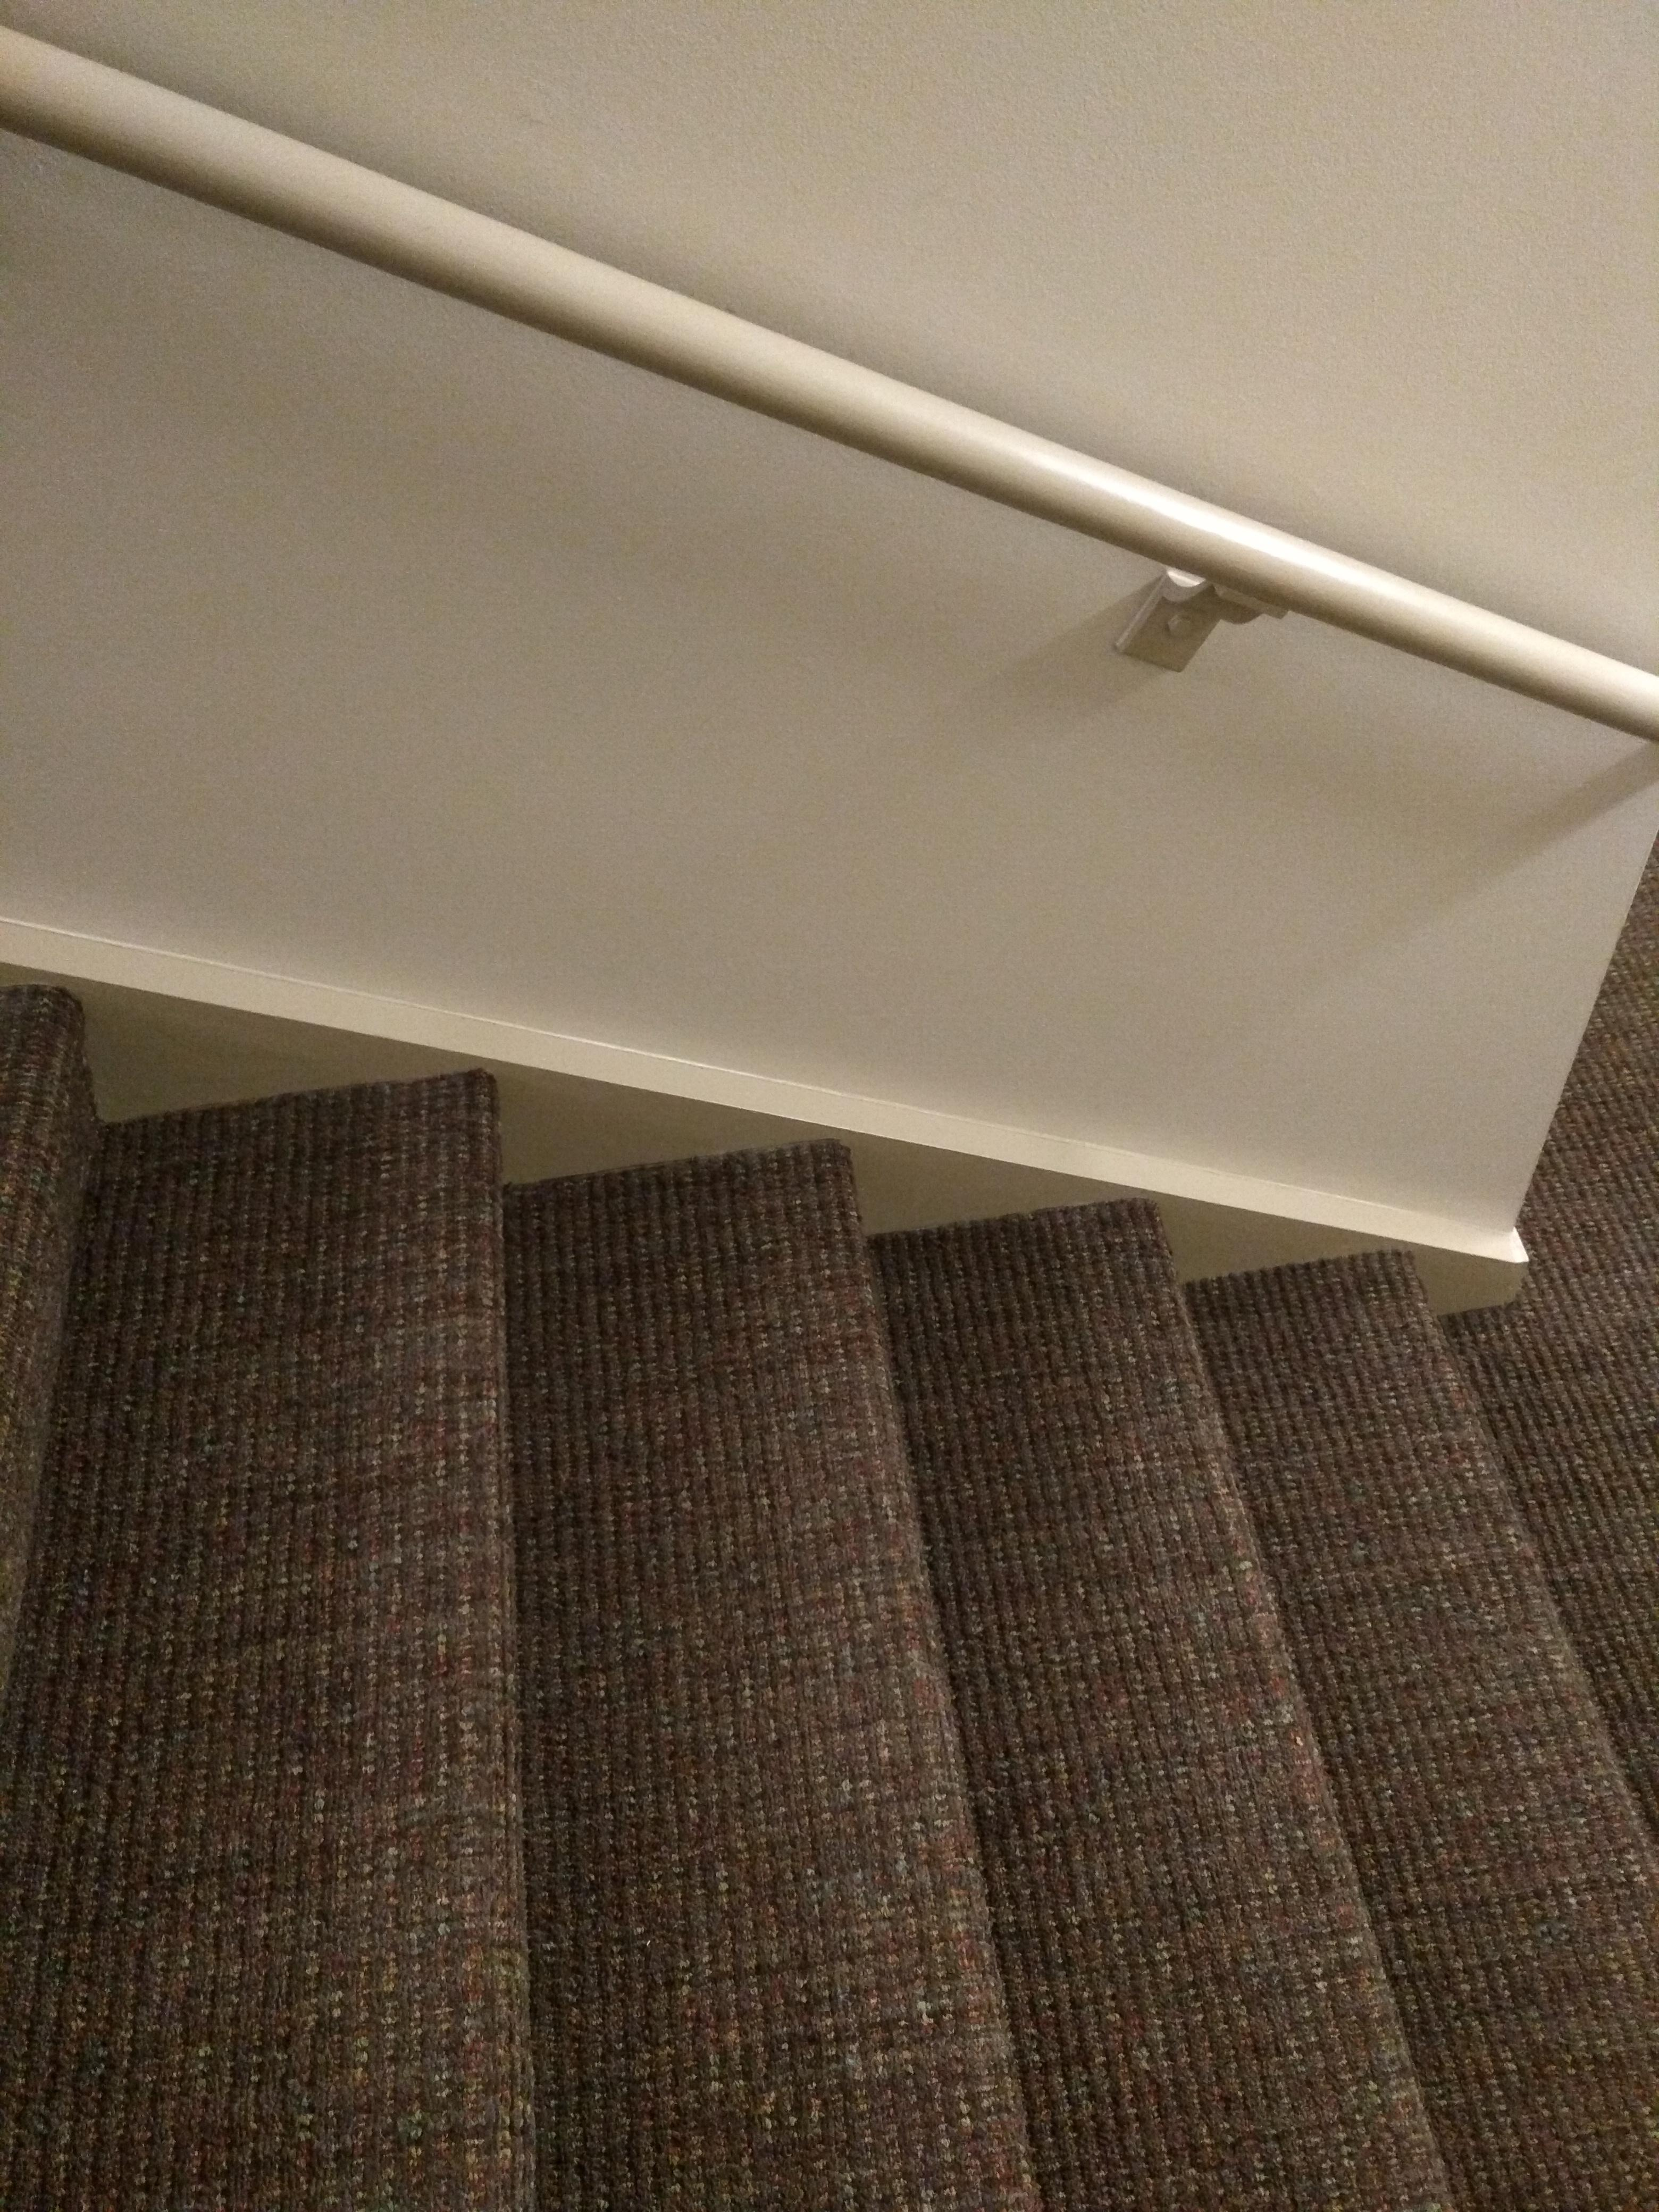stairs_down: (0, 942, 1659, 2200)
